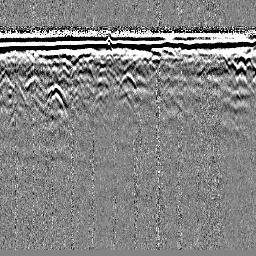cavity: (118, 70, 137, 91)
